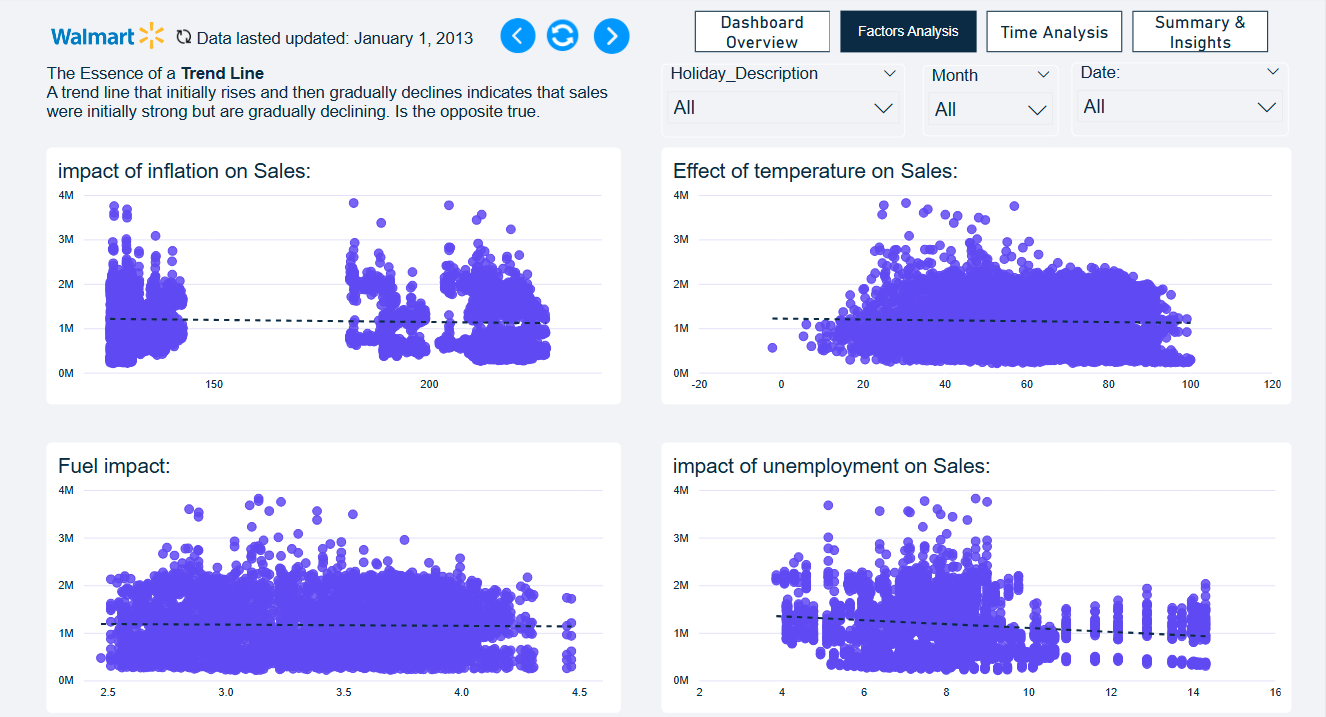

The page's visual inventory and layout, read from the dashboard file:
{"tool":"powerbi","page":{"name":"Factors Analysis","canvas":[1280,720],"ordinal":1},"visuals":[{"type":"scatterChart","title":"impact of inflation on Sales:","fields":{"X":["Walmart_Sales.CPI"],"Y":["Walmart_Sales.Weekly_Sales"]},"box":[45.3,146.8,554.4,248.4],"z":0},{"type":"scatterChart","title":"impact of unemployment on Sales:","fields":{"Y":["Walmart_Sales.Weekly_Sales"],"X":["Walmart_Sales.Unemployment"]},"box":[639.5,432.2,607.9,260.7],"z":1000},{"type":"scatterChart","title":"Effect of temperature on Sales:","fields":{"Y":["Walmart_Sales.Weekly_Sales"],"X":["Walmart_Sales.Temperature"]},"box":[639.5,146.8,607.9,248.4],"z":2000},{"type":"scatterChart","title":"Fuel impact:","fields":{"Y":["Walmart_Sales.Weekly_Sales"],"X":["Walmart_Sales.Fuel_Price"]},"box":[45.3,432.2,554.4,260.7],"z":3000},{"type":"slicer","fields":{"Values":["Walmart_Sales.YearOnly","Walmart_Sales.Date.Variation.Date Hierarchy.Quarter","Walmart_Sales.Date.Variation.Date Hierarchy.Month"]},"box":[1034.8,65.6,209.5,71.3],"z":4000},{"type":"slicer","fields":{"Values":["Walmart_Sales.Holiday_Description"]},"box":[639.4,66.4,235.3,71.2],"z":5000},{"type":"textbox","box":[45.3,65.9,554.4,71.4],"z":6000},{"type":"textbox","box":[190.7,32.9,281.3,20.6],"z":7000},{"type":"image","box":[157.8,23.3,41.2,34.3],"z":8000},{"type":"image","box":[515.3,13.7,57.6,50.8],"z":9000},{"type":"image","box":[472,11,59,56.3],"z":10000},{"type":"image","box":[557.1,11.7,68.6,54.9],"z":11000},{"type":"image","box":[33.8,4.8,141.2,67.6],"z":12000},{"type":"slicer","fields":{"Values":["Walmart_Sales.Date.Variation.Date Hierarchy.Month"]},"box":[891.6,67.6,131.5,68.8],"z":13000},{"type":"pageNavigator","box":[661.1,4.8,574.3,60.3],"z":14000}]}

Visuals, with their boxes on the page's 1280x720 design canvas (x1, y1, x2, y2). These are canvas units, not pixel positions in the 1326x717 screenshot, which may show the page scaled, cropped or inside an application window:
"impact of inflation on Sales:" scatterChart: (45,147,600,395)
"impact of unemployment on Sales:" scatterChart: (640,432,1247,693)
"Effect of temperature on Sales:" scatterChart: (640,147,1247,395)
"Fuel impact:" scatterChart: (45,432,600,693)
slicer - Walmart_Sales.YearOnly x Walmart_Sales.Date.Variation.Date Hierarchy.Quarter: (1035,66,1244,137)
slicer - Walmart_Sales.Holiday_Description: (639,66,875,138)
textbox: (45,66,600,137)
textbox: (191,33,472,54)
image: (158,23,199,58)
image: (515,14,573,64)
image: (472,11,531,67)
image: (557,12,626,67)
image: (34,5,175,72)
slicer - Walmart_Sales.Date.Variation.Date Hierarchy.Month: (892,68,1023,136)
pageNavigator: (661,5,1235,65)
